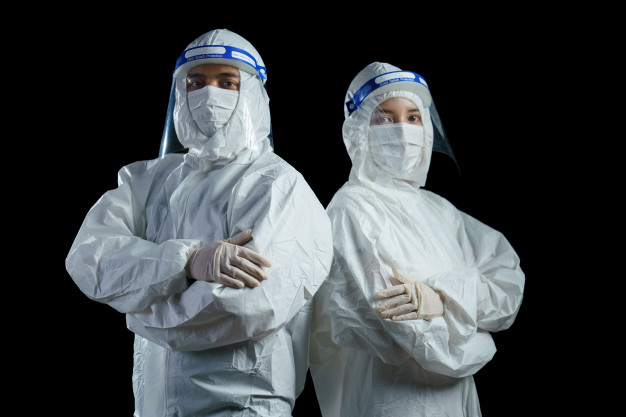Coverall: (64, 28, 332, 415), (308, 62, 526, 413)
Face_Shield: (155, 44, 277, 161), (350, 70, 457, 168)
Gloves: (189, 228, 271, 291), (372, 283, 449, 320)
with_mask: (373, 111, 423, 174), (187, 80, 241, 133)
